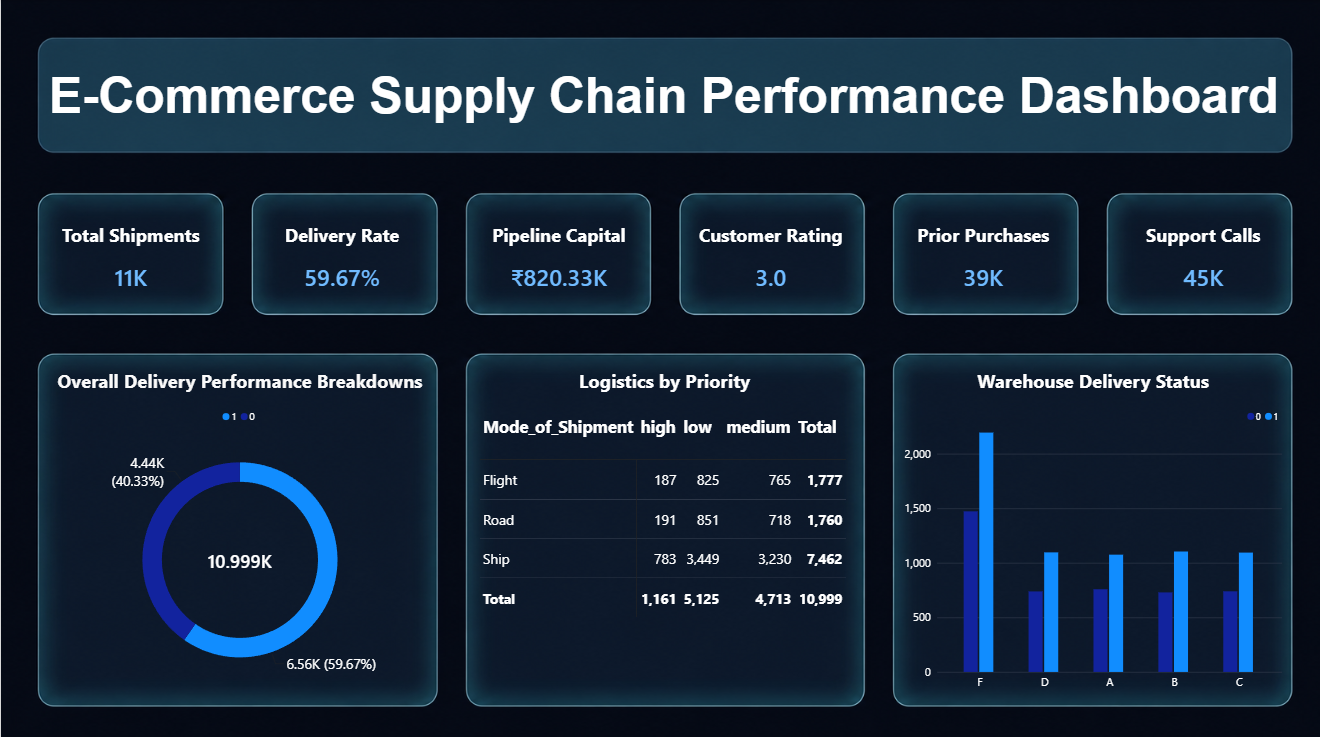

The dashboard page shown, as its layout file describes it:
{"tool":"powerbi","page":{"name":"Page 1","canvas":[1920,1080],"ordinal":0},"visuals":[{"type":"cardVisual","fields":{"Data":["Measure.Total Shipments"]},"box":[58.4,288,260,170],"z":0},{"type":"cardVisual","fields":{"Data":["Measure.On-Time Delivery Rate"]},"box":[352,288,282,170],"z":1000},{"type":"cardVisual","fields":{"Data":["Measure.Total Capital in Pipeline"]},"box":[676,288,262,170],"z":2000},{"type":"cardVisual","fields":{"Data":["Measure.Avg Customer Rating"]},"box":[984,288,260,170],"z":3000},{"type":"cardVisual","fields":{"Data":["Measure.Total Prior Purchases"]},"box":[1292,288,260,170],"z":4000},{"type":"cardVisual","fields":{"Data":["Measure.Total Support Calls"]},"box":[1610,288,260,170],"z":5000},{"type":"donutChart","title":"Overall Delivery Performance Breakdowns","fields":{"Category":["Fact_Shipment.Delivery Status"],"Y":["CountNonNull(Fact_Shipment.Delivery Status)"]},"box":[58,520,576,502],"z":6000},{"type":"clusteredColumnChart","title":"Warehouse Delivery Status","fields":{"Category":["Dim_Warehouse.Warehouse_block"],"Series":["Fact_Shipment.Delivery Status"],"Y":["Measure.Total Shipments"]},"box":[1292,520,578,502],"z":7000},{"type":"pivotTable","title":"Logistics by Priority","fields":{"Columns":["Dim_Product.Product_importance"],"Rows":["Fact_Shipment.Mode_of_Shipment"],"Values":["Measure.Total Shipments"]},"box":[676,520,568,502],"z":8000},{"type":"textbox","box":[18,50,1902,170],"z":8001}]}

Visuals, with their boxes in screenshot pixels (x1, y1, x2, y2), scaled from the page's 1920x1080 canvas onto the 1320x737 screenshot:
cardVisual - Measure.Total Shipments: locate(40, 197, 219, 313)
cardVisual - Measure.On-Time Delivery Rate: locate(242, 197, 436, 313)
cardVisual - Measure.Total Capital in Pipeline: locate(465, 197, 645, 313)
cardVisual - Measure.Avg Customer Rating: locate(676, 197, 855, 313)
cardVisual - Measure.Total Prior Purchases: locate(888, 197, 1067, 313)
cardVisual - Measure.Total Support Calls: locate(1107, 197, 1286, 313)
"Overall Delivery Performance Breakdowns" donutChart: locate(40, 355, 436, 697)
"Warehouse Delivery Status" clusteredColumnChart: locate(888, 355, 1286, 697)
"Logistics by Priority" pivotTable: locate(465, 355, 855, 697)
textbox: locate(12, 34, 1319, 150)
